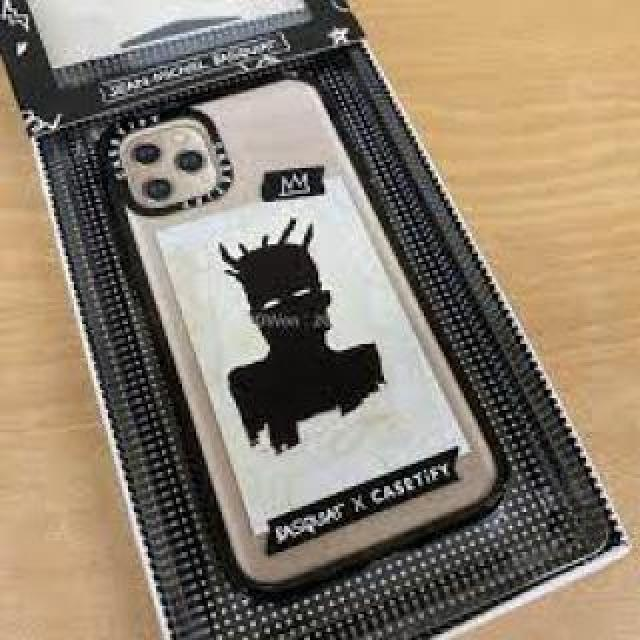smart phone: (85, 71, 526, 588)
